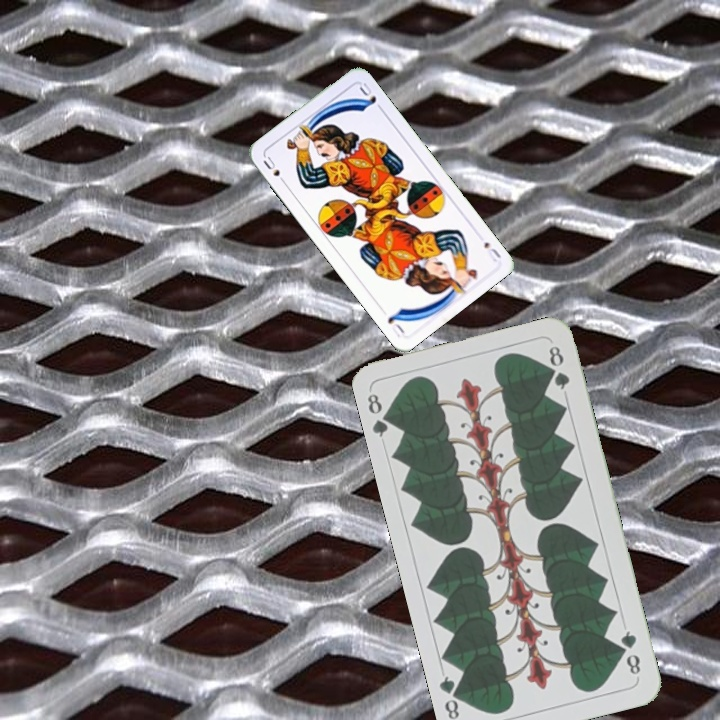G8: (363, 389, 397, 440), (616, 626, 643, 678)
SU: (259, 152, 289, 188), (480, 238, 503, 261)
